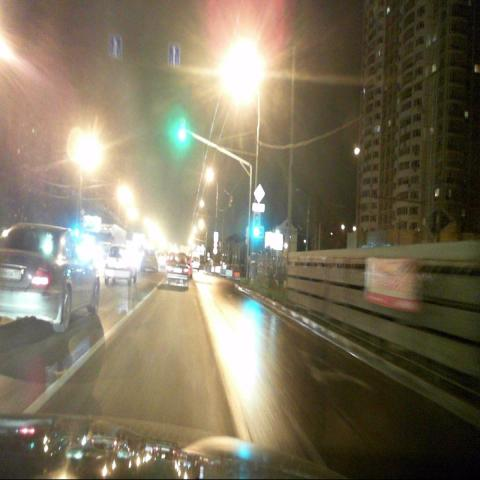2_1: (253, 183, 264, 203)
5_15_2: (108, 35, 122, 60), (168, 45, 182, 68)
